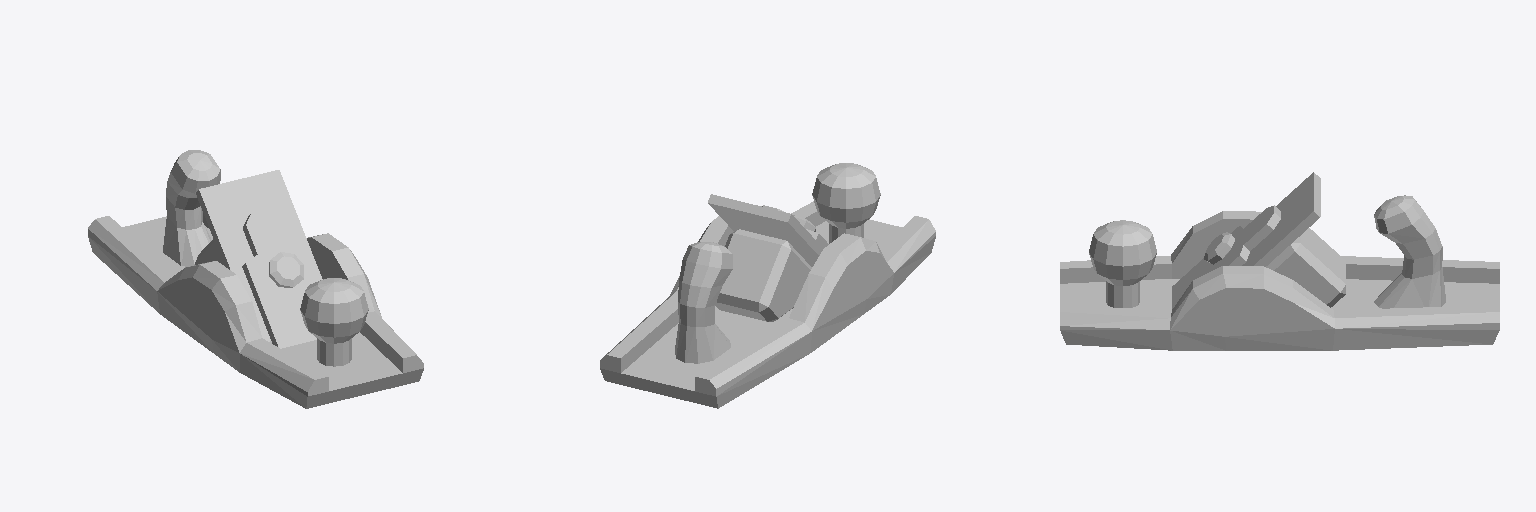
The model's file is handplane.obj.
The picture shows the model from 3 angles: view 1: azimuth 30°, elevation 25°; view 2: azimuth 150°, elevation 25°; view 3: azimuth 270°, elevation 25°; orthographic projection.
Visible parts, largest first — view 1: handplane; view 2: handplane; view 3: handplane.
Part boxes in pixels (bbox=[...]): handplane: bbox=[88, 150, 423, 408]; handplane: bbox=[600, 163, 935, 408]; handplane: bbox=[1060, 172, 1499, 350].
Size of the model in its own units: 0.3966 by 0.3417 by 1.06.